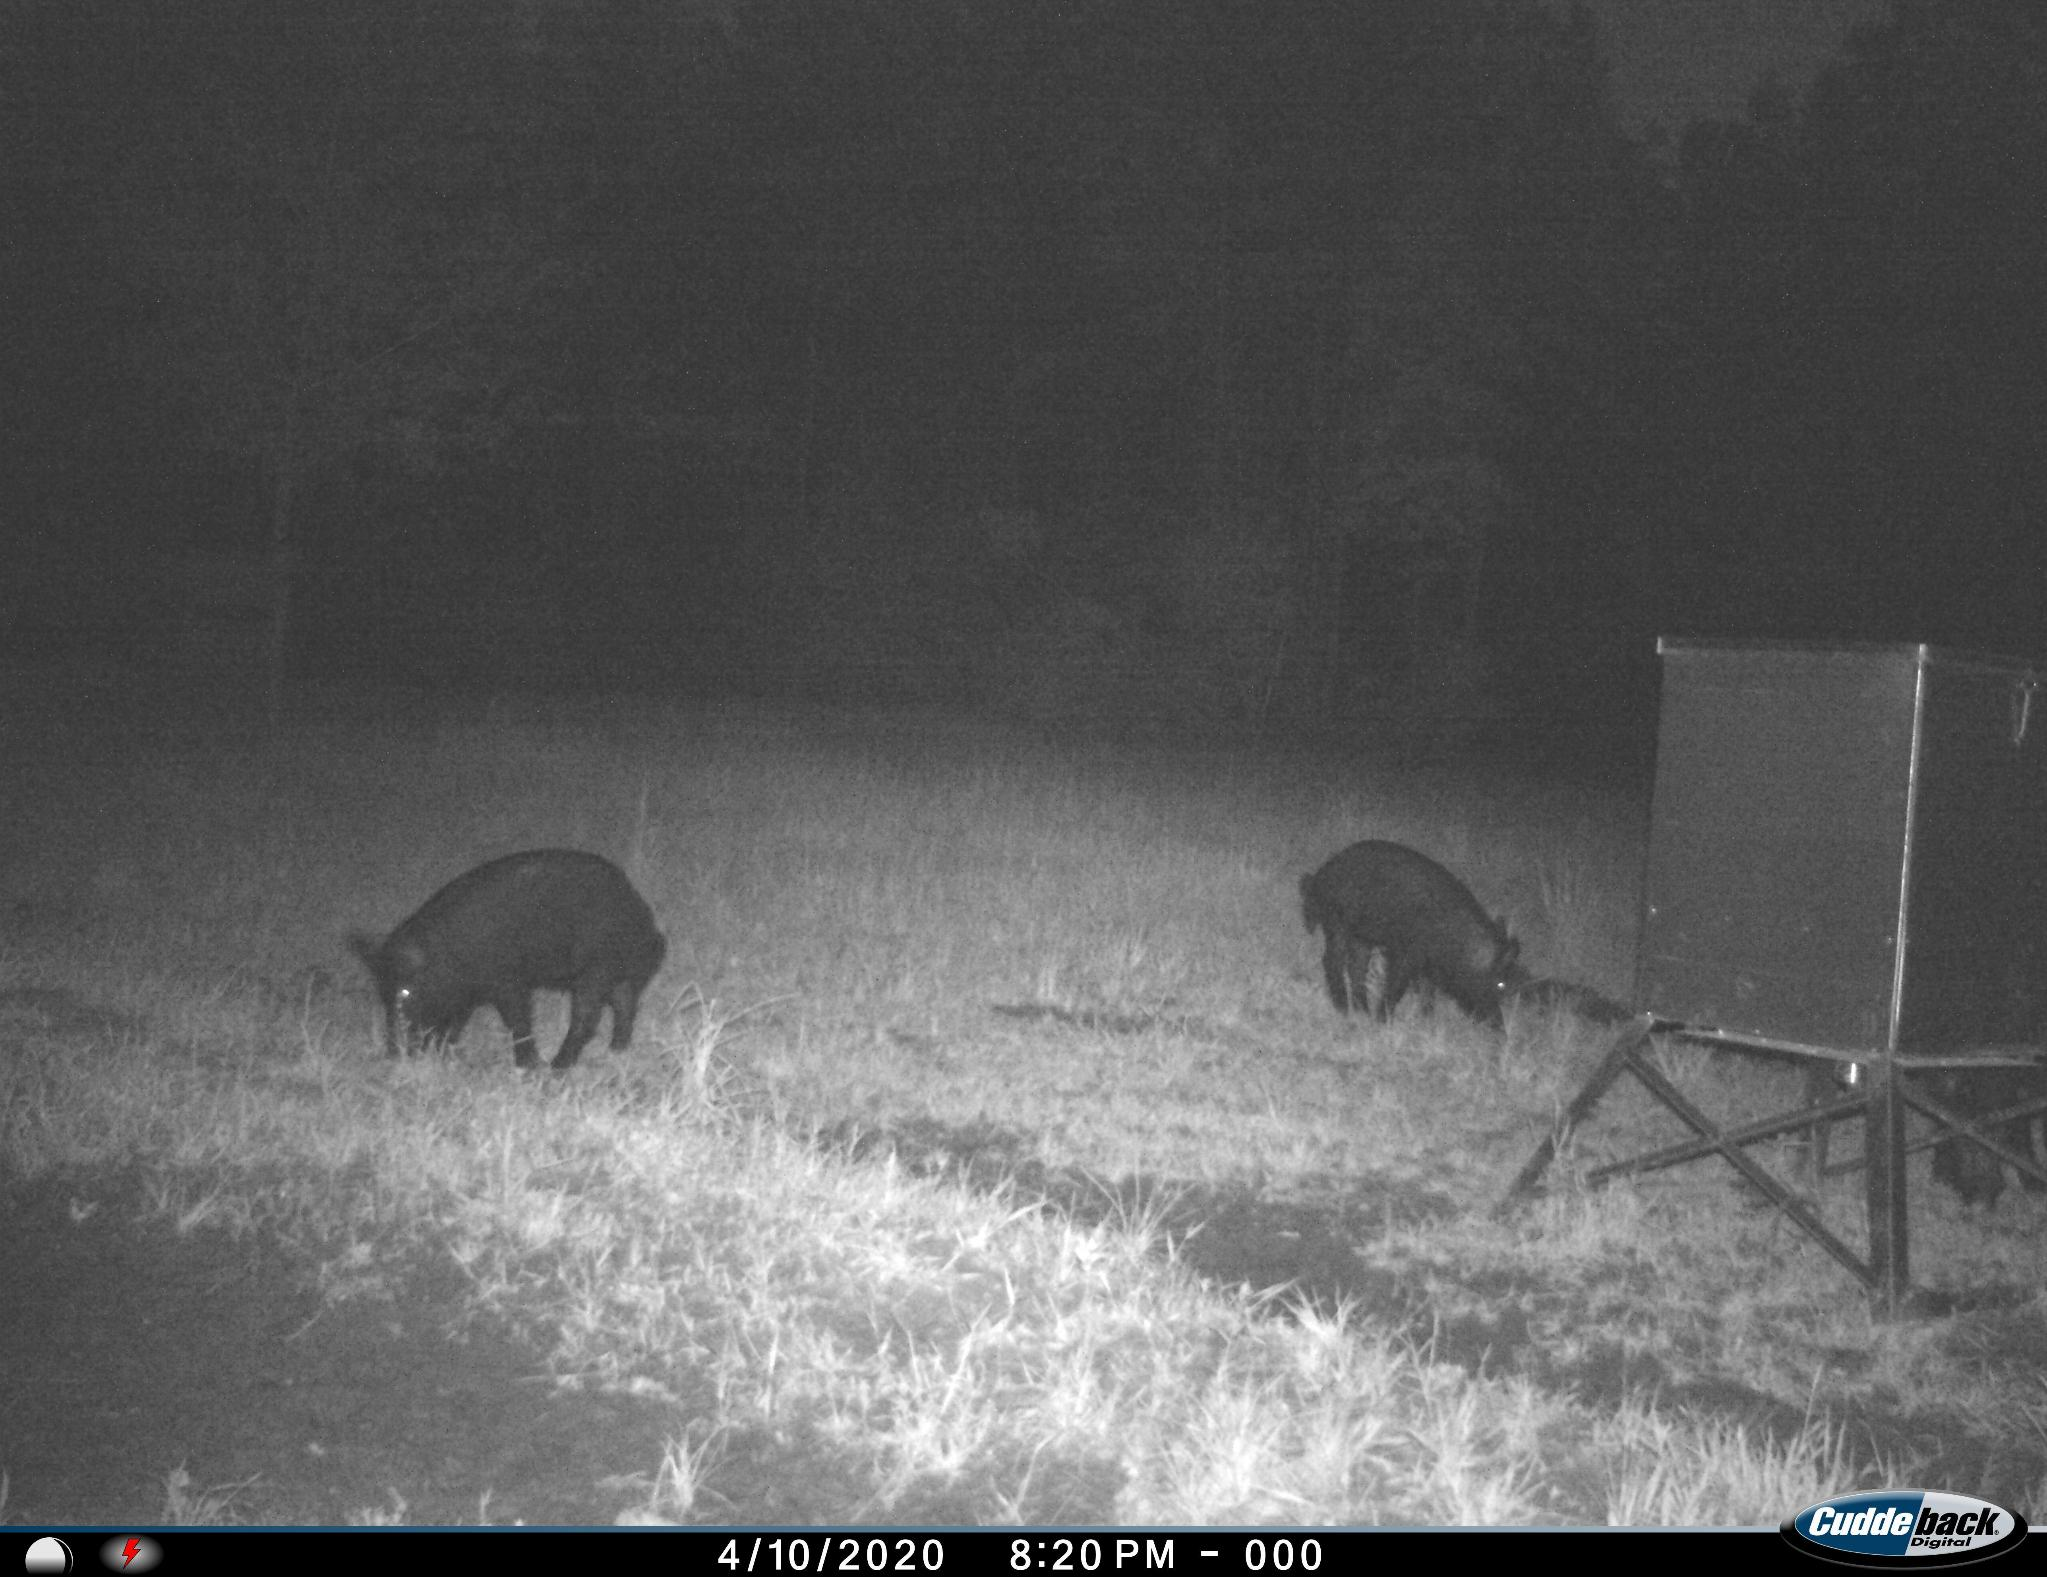Hog: (338, 830, 674, 1090), (1292, 838, 1542, 1047), (1911, 1060, 2044, 1218)
